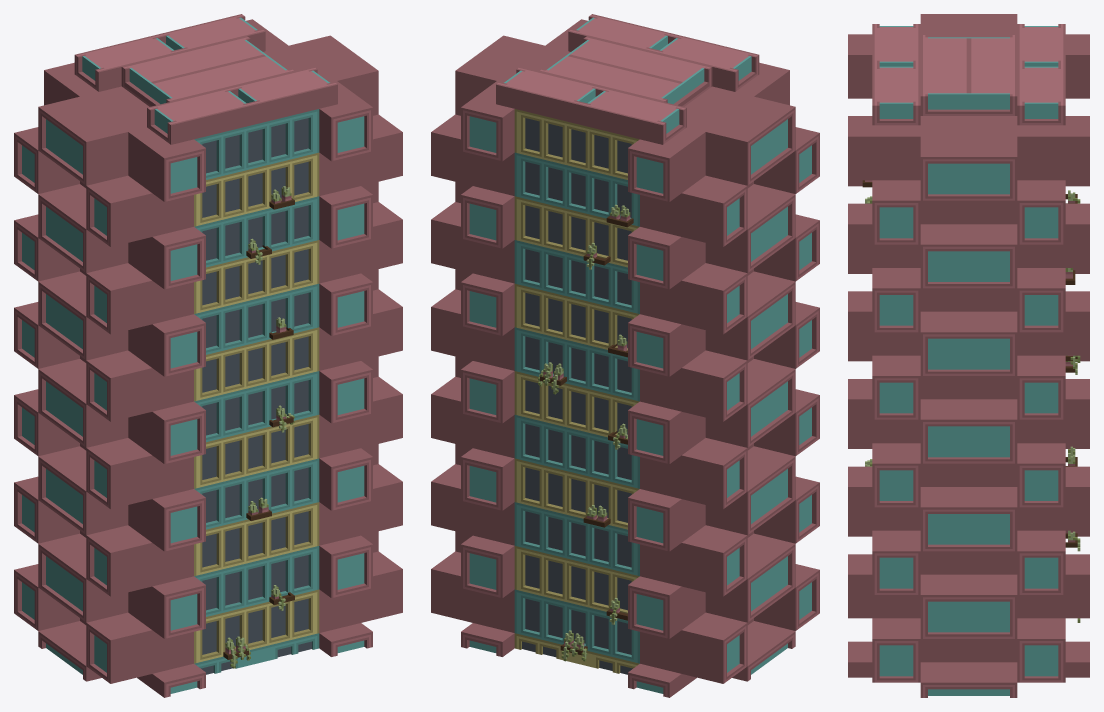
The model's file is Buildings_01-14.obj.
3 renders of one model, left to right at view 1: azimuth 30°, elevation 25°; view 2: azimuth 150°, elevation 25°; view 3: azimuth 270°, elevation 25°, orthographic.
Size of the model in its own units: 14 by 25.6 by 10.
1 material, 1 textured.
